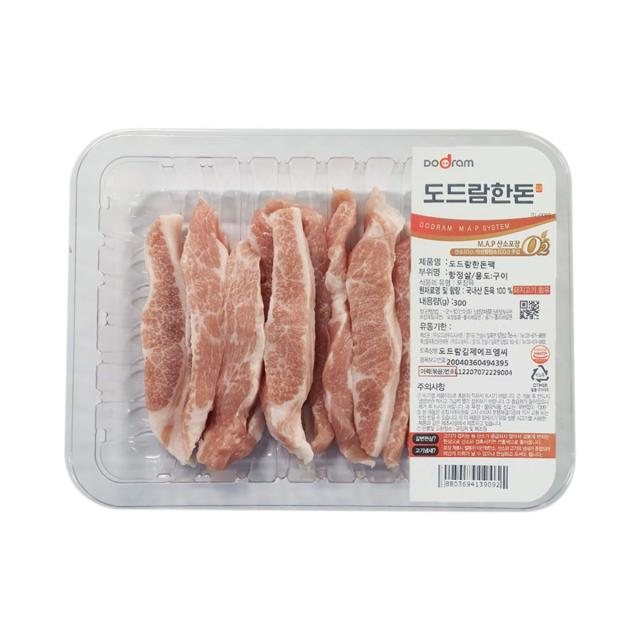pork: (87, 120, 596, 523)
